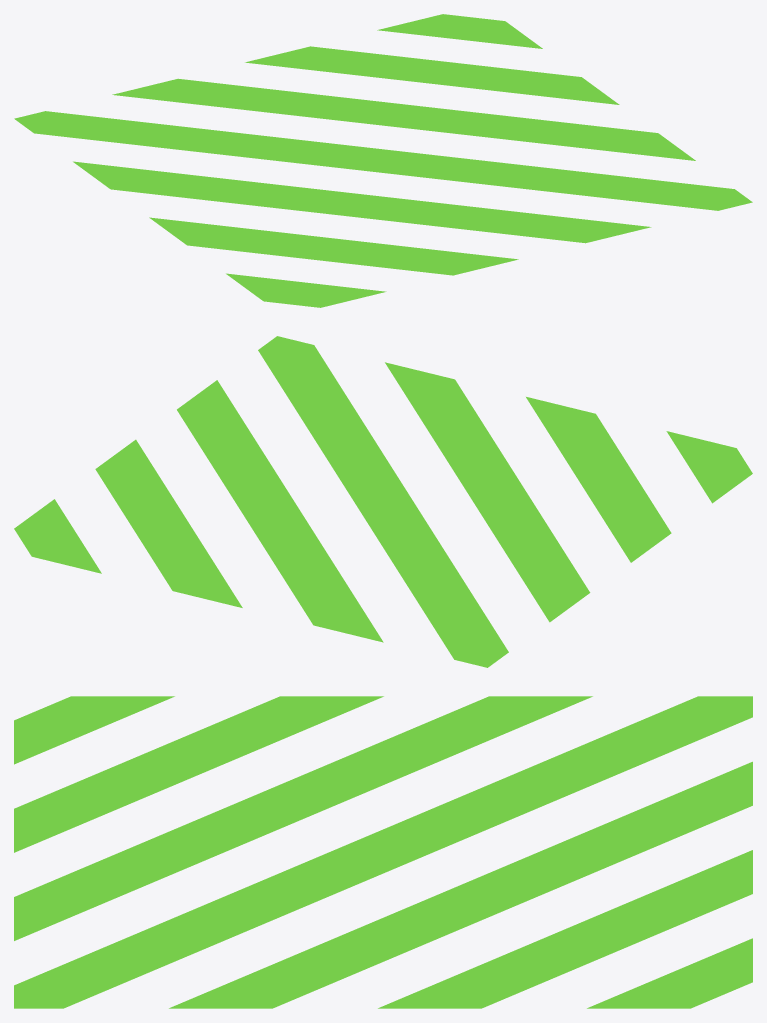
File: Button_GreenDiagonalDown.glb
3 views of the same model, one above another, from view 1: azimuth 30°, elevation 25°; view 2: azimuth 150°, elevation 25°; view 3: azimuth 270°, elevation 25° (orthographic). The views are drawn at different scales.
Visible parts, largest first — view 1: indicator-special-lines.011; view 2: indicator-special-lines.011; view 3: indicator-special-lines.011.
Part boxes in pixels (x1=…): indicator-special-lines.011: x1=14, y1=14, x2=752, y2=307; indicator-special-lines.011: x1=14, y1=336, x2=752, y2=667; indicator-special-lines.011: x1=14, y1=696, x2=752, y2=1008.
Size of the model in its own units: 1 by 0 by 1.
